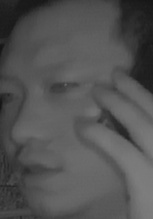eye: (47, 76, 82, 96), (1, 88, 19, 106)
mouth: (16, 148, 71, 184)
